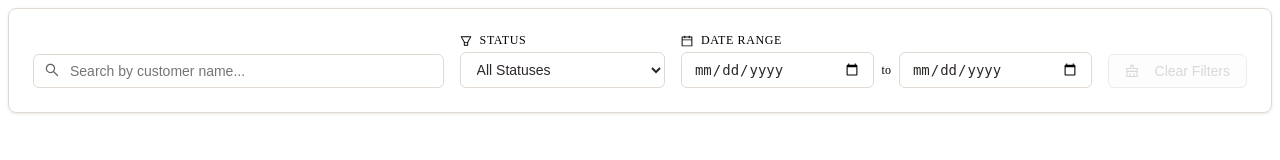
Scenario: SearchAndFilters › Rendering › shows clear search button when search has value
In the field with placeholder "Search by customer name...": (238, 71) [33,54,444,88], type "test"
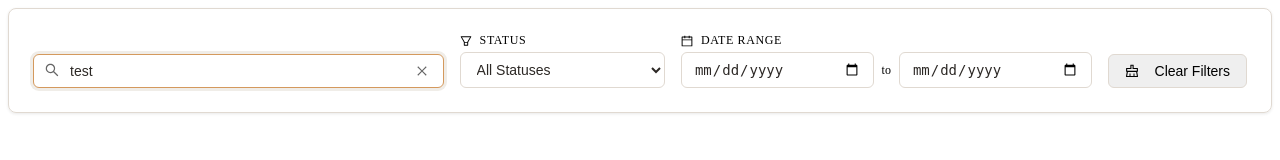
Check: the button named "Clear search" is shown, box [412,61,432,81]
